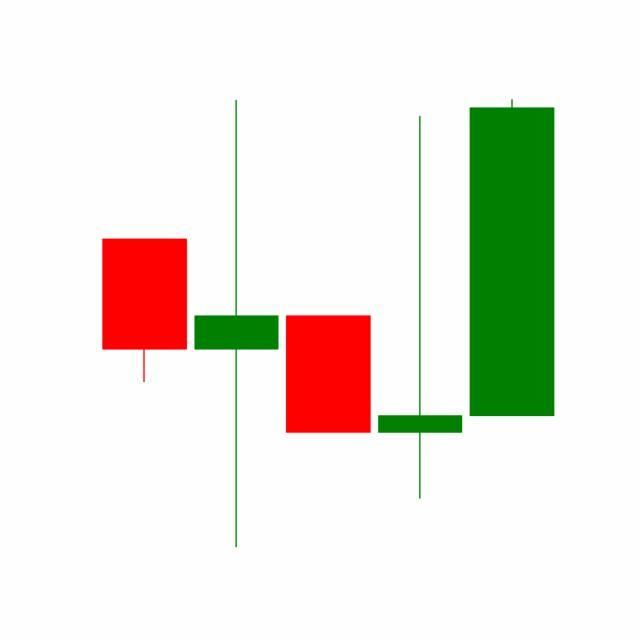Spinning Top: (374, 112, 468, 504)
